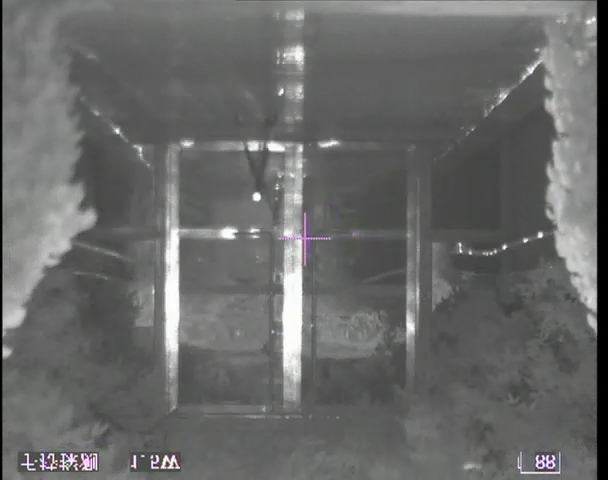my: (250, 191, 262, 202)
